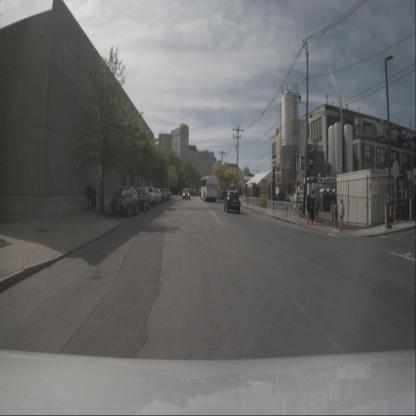human-pedestrian-adult: (85, 181, 92, 211), (339, 198, 345, 232), (90, 181, 96, 212), (306, 194, 312, 225), (310, 194, 316, 225), (98, 180, 104, 210), (284, 192, 290, 218)
vehicle-bus-rigid: (200, 176, 219, 202)
vehicle-car: (110, 186, 140, 218), (134, 186, 150, 213), (224, 190, 240, 214), (143, 186, 157, 207), (153, 188, 162, 205), (156, 188, 165, 203), (158, 188, 167, 202), (218, 190, 227, 202), (182, 188, 190, 200), (163, 188, 171, 200)
